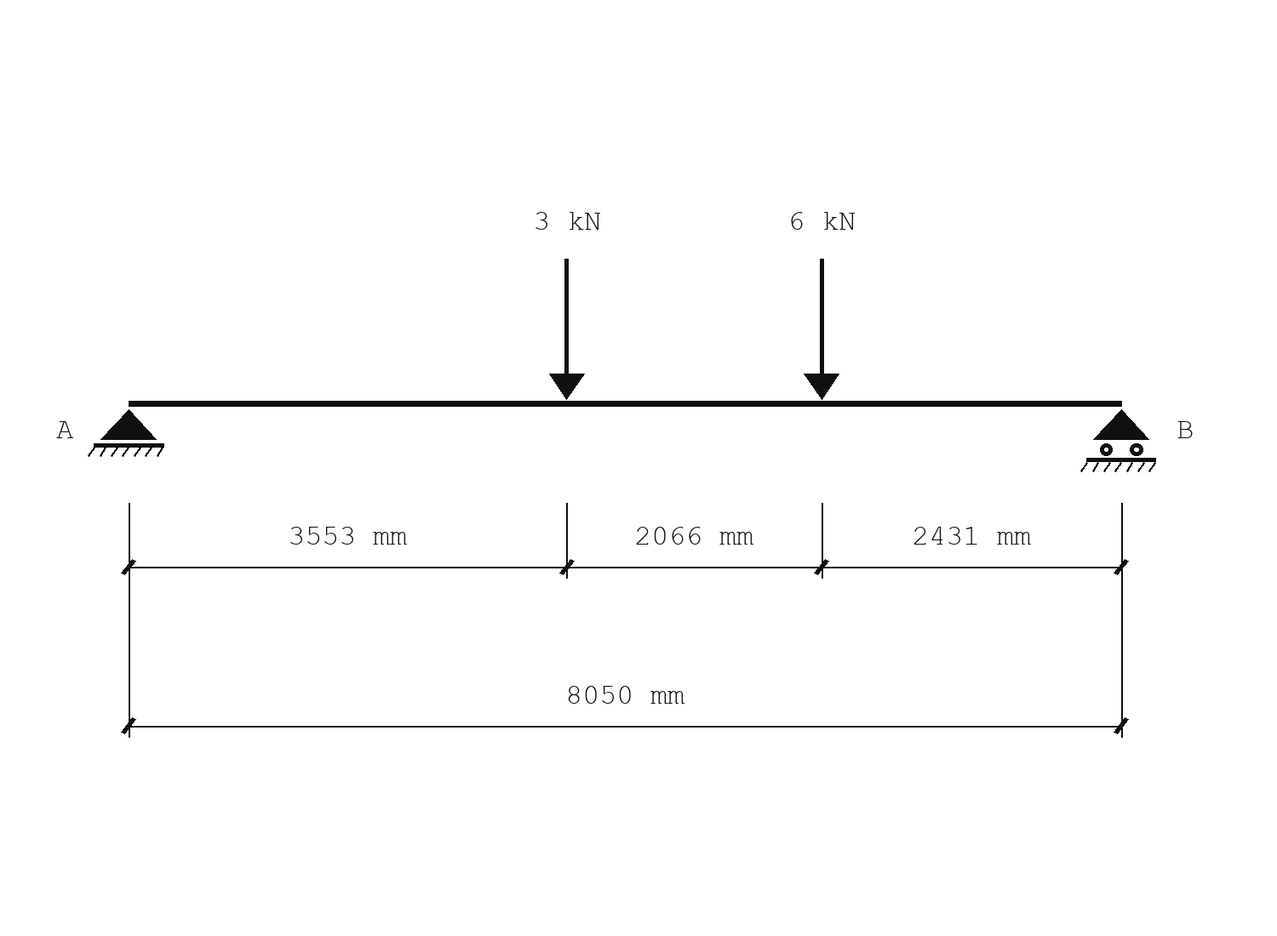pin_support: (88, 409, 164, 457)
point_load: (549, 259, 585, 400), (804, 259, 839, 400)
roller_support: (1080, 409, 1156, 472)
